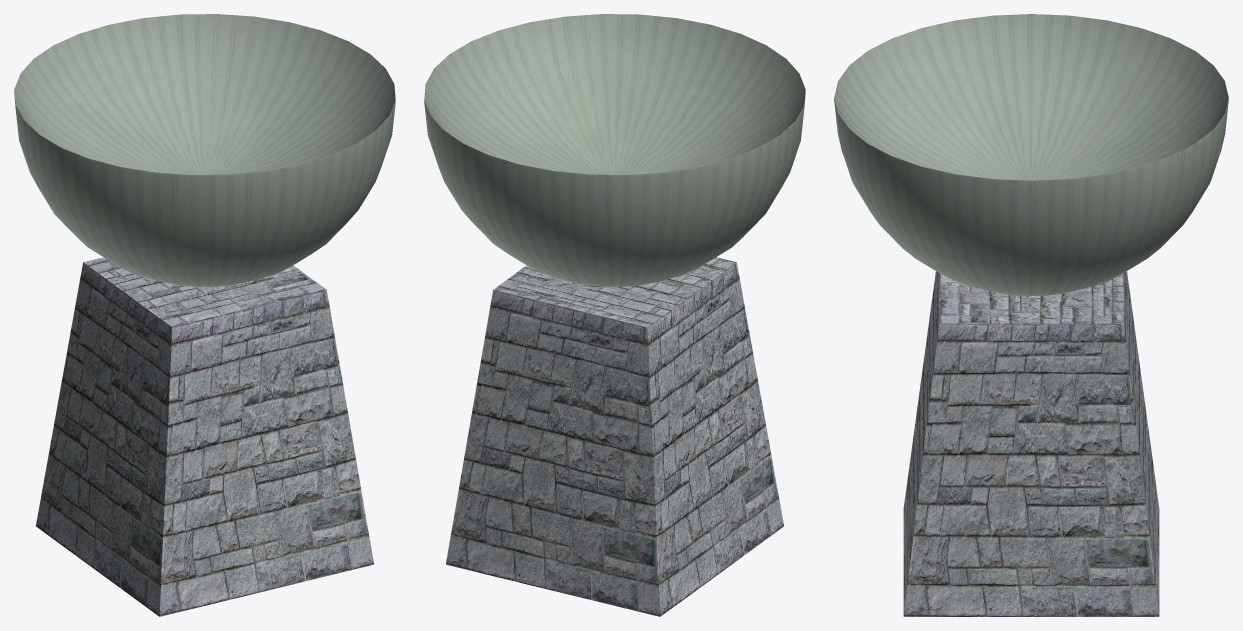
The model's file is Lightstand01.fbx.
The picture shows the model from 3 angles, left to right: view 1: azimuth 30°, elevation 25°; view 2: azimuth 150°, elevation 25°; view 3: azimuth 270°, elevation 25°; orthographic projection. The views are drawn at different scales.
Visible parts, largest first — view 1: Box001, Sphere001; view 2: Box001, Sphere001; view 3: Sphere001, Box001.
Part boxes in pixels (left/top/right/bottom): Box001: left=36, top=257, right=373, bottom=616; Sphere001: left=14, top=14, right=395, bottom=287; Box001: left=446, top=257, right=783, bottom=616; Sphere001: left=424, top=14, right=805, bottom=287; Sphere001: left=834, top=14, right=1228, bottom=296; Box001: left=903, top=271, right=1159, bottom=616.
Size of the model in its own units: 77.18 by 77.18 by 100.
